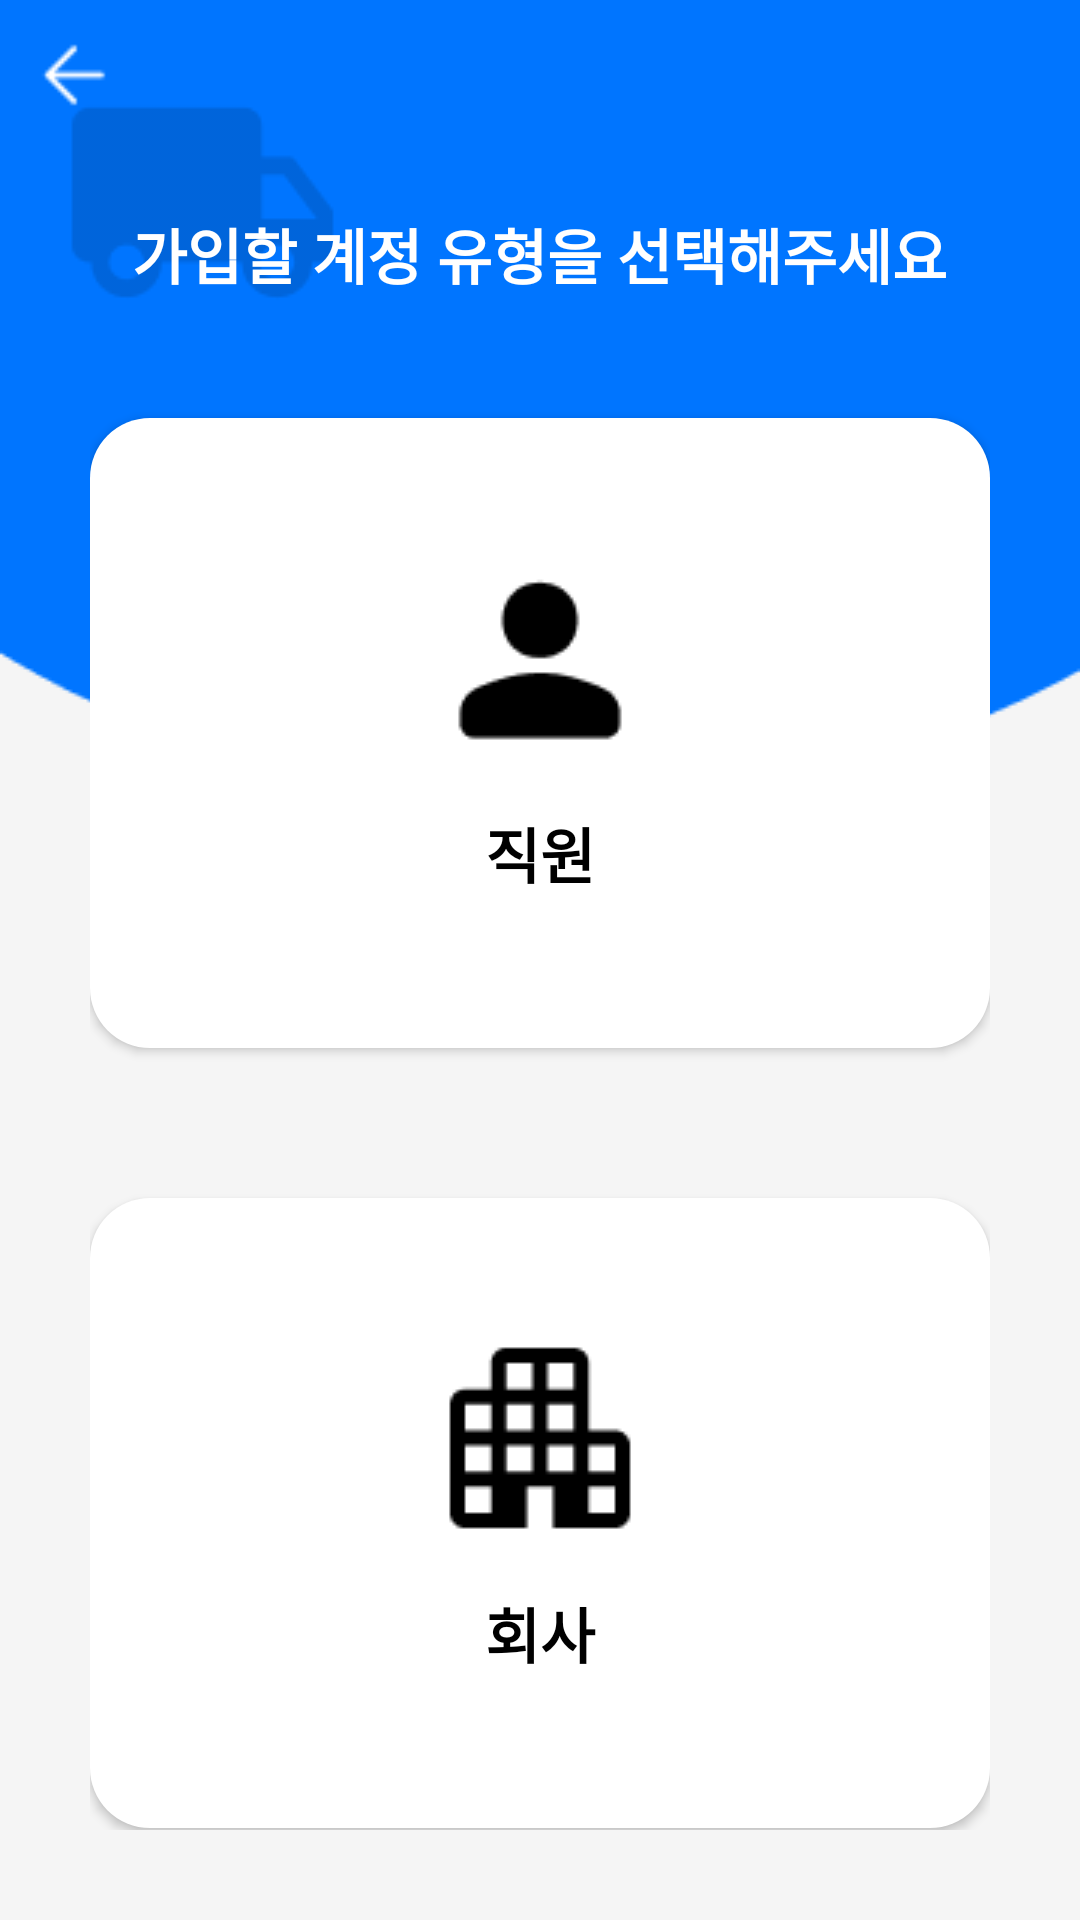

Icons on this 1080w x 1920h Android screen, each with its box as (x1, y1, x2, y2):
arrow back: (44, 44, 106, 106)
